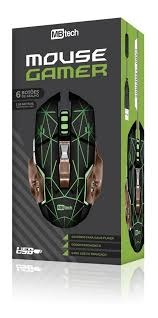mouse: (21, 92, 105, 227)
